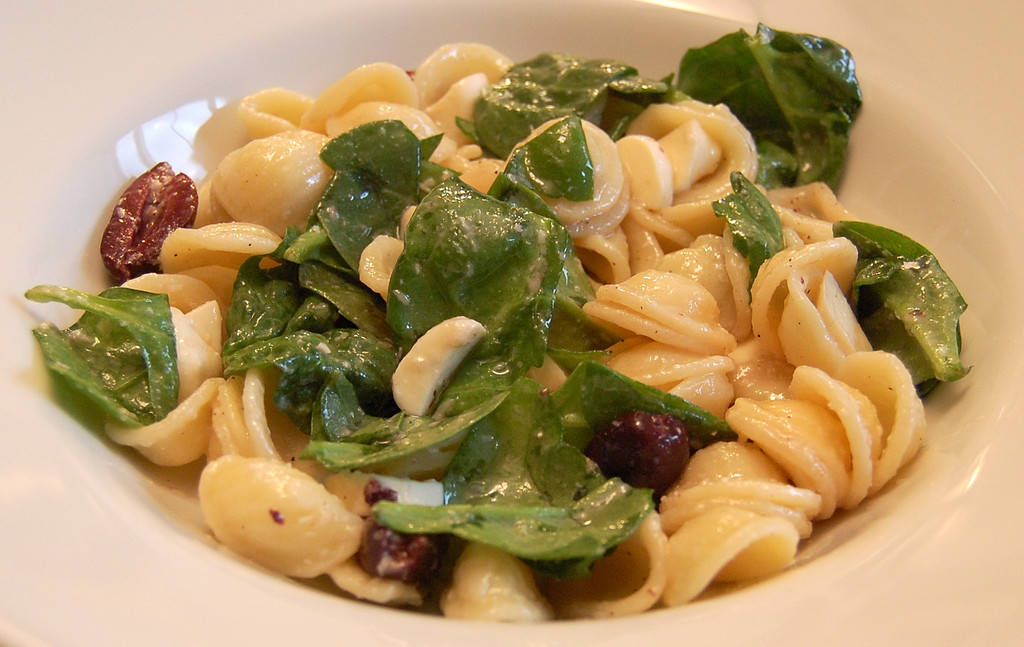pasta: (104, 38, 932, 621)
